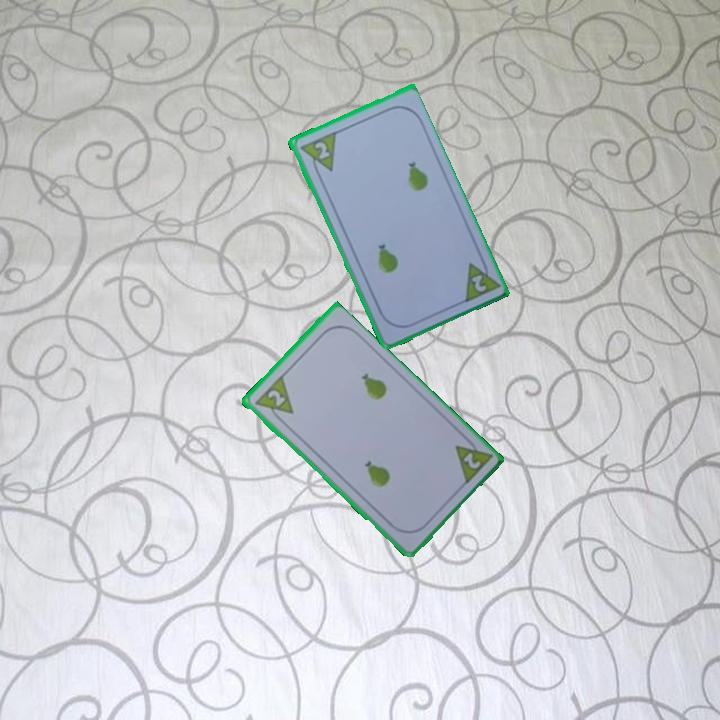2p: (451, 431, 494, 488), (295, 128, 339, 179), (459, 253, 501, 306), (263, 386, 288, 409)
